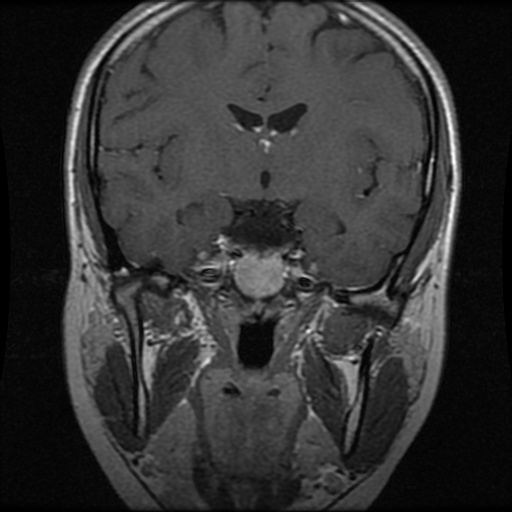pituitary: (233, 245, 283, 297)
